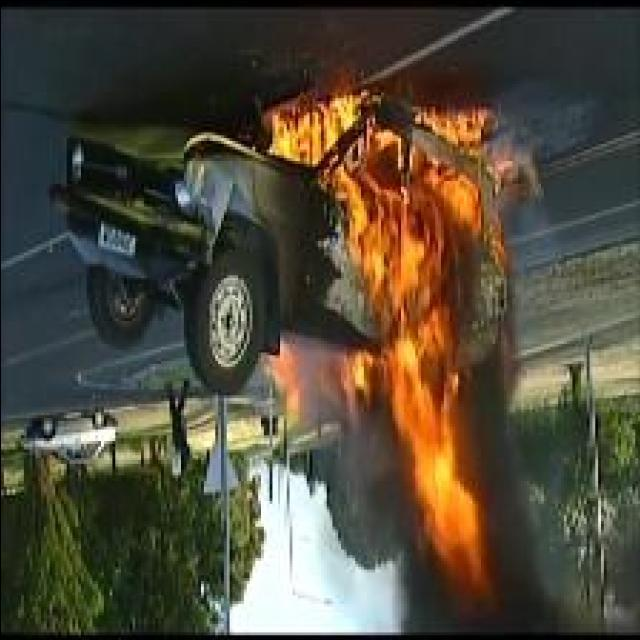Fire: (263, 89, 506, 602), (263, 334, 303, 417)
